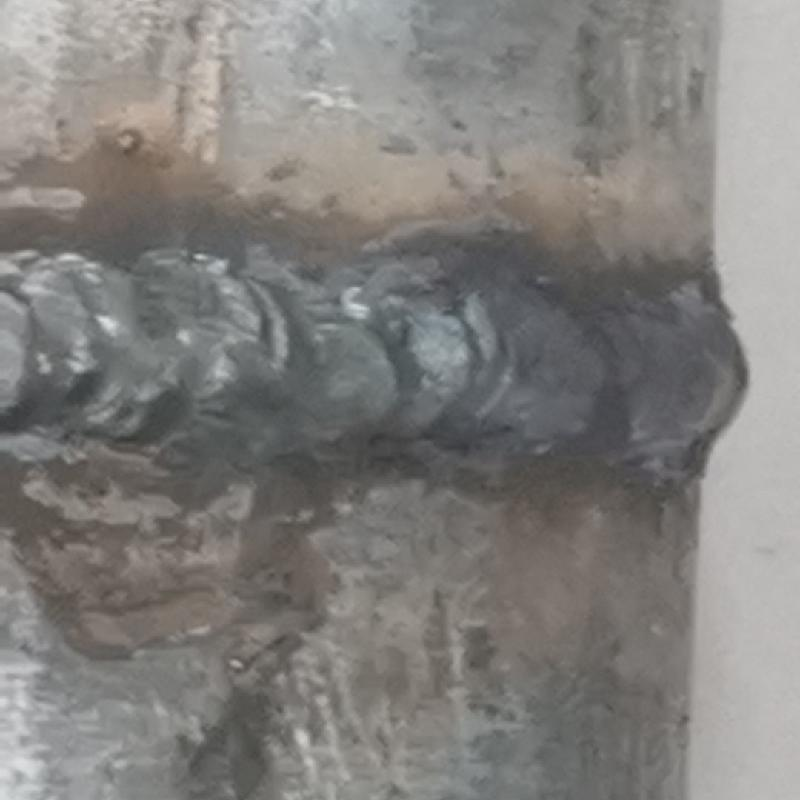good: (3, 240, 750, 486)
